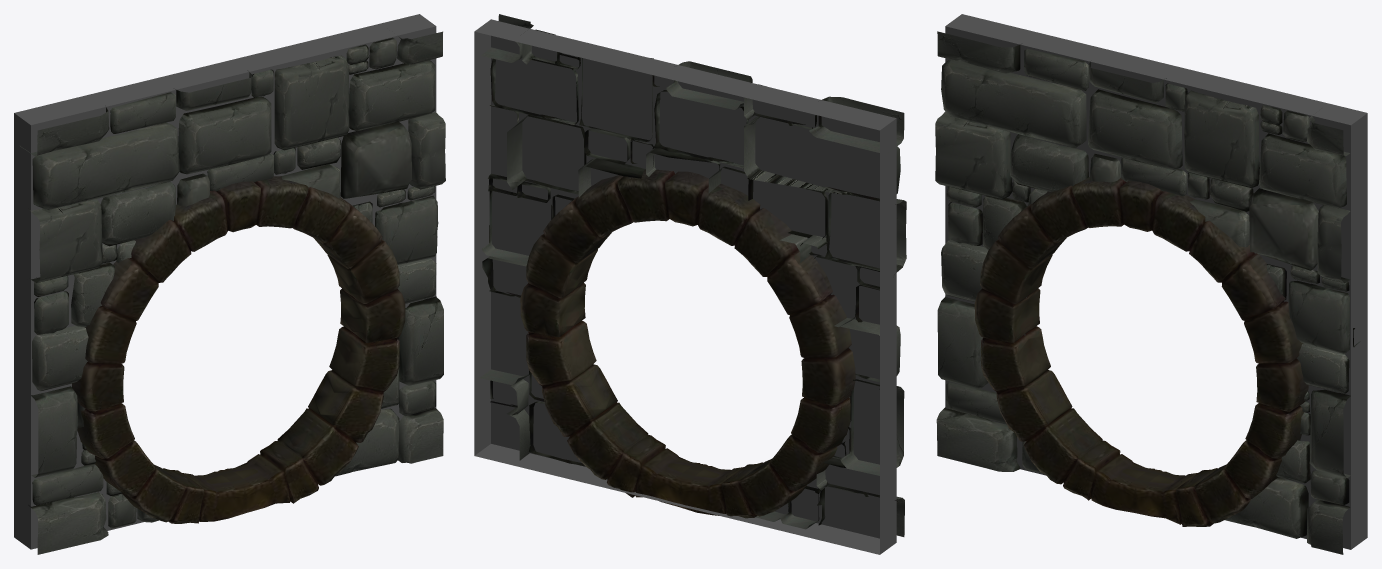
Rendered from Wall_Sewer_Entrance_Round.fbx.
3 views of the same model, side by side, from view 1: azimuth 30°, elevation 25°; view 2: azimuth 150°, elevation 25°; view 3: azimuth 330°, elevation 25° (orthographic).
Visible parts, largest first — view 1: Wall_SewerEntrance_Round; view 2: Wall_SewerEntrance_Round; view 3: Wall_SewerEntrance_Round.
Part boxes in pixels (x1,y1,x2,y2): Wall_SewerEntrance_Round: (14,14,445,554); Wall_SewerEntrance_Round: (474,14,906,554); Wall_SewerEntrance_Round: (935,14,1367,554).
Bounding box in the file's own units: 302 × 305 × 40.21.
3 materials, 2 textured.
